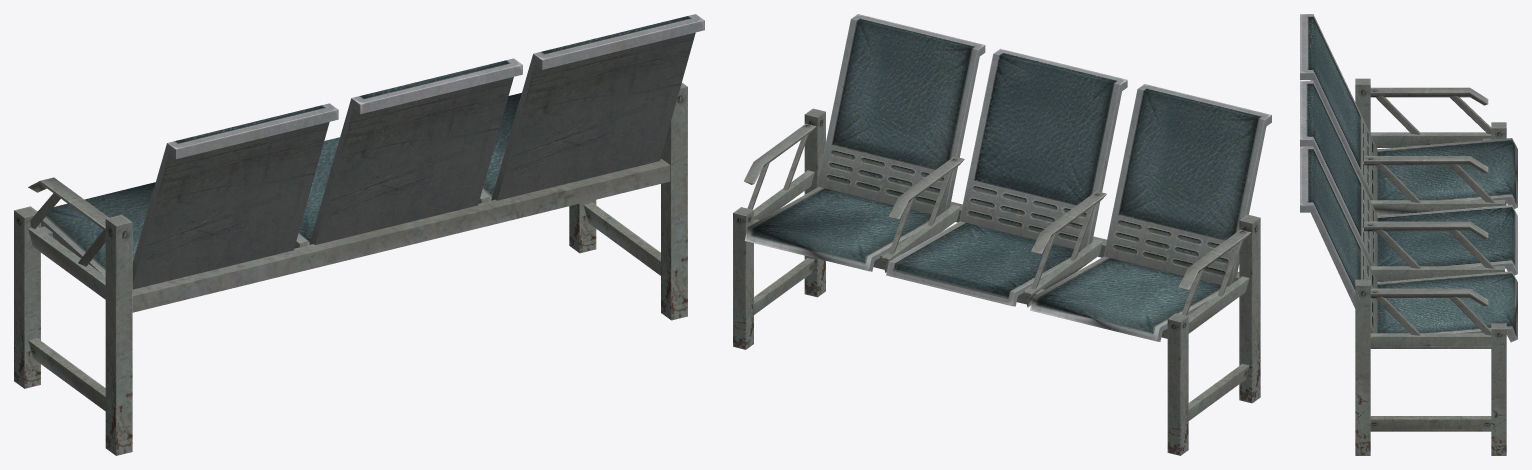
File: Prop_Yyyz02_lod1.glb
3 renders of one model, left to right at view 1: azimuth 30°, elevation 25°; view 2: azimuth 150°, elevation 25°; view 3: azimuth 270°, elevation 25°, orthographic. The views are drawn at different scales.
Parts seen in each view (by area): view 1: xiutz_yyyz_02_lod1; view 2: xiutz_yyyz_02_lod1; view 3: xiutz_yyyz_02_lod1.
Boxes of the visible parts, x1,y1,x2,y2 form: xiutz_yyyz_02_lod1: (14, 14, 704, 455); xiutz_yyyz_02_lod1: (733, 14, 1271, 455); xiutz_yyyz_02_lod1: (1300, 14, 1517, 455).
Bounding box in the file's own units: 3.1 × 1.7 × 1.38.
1 material, 1 textured.
